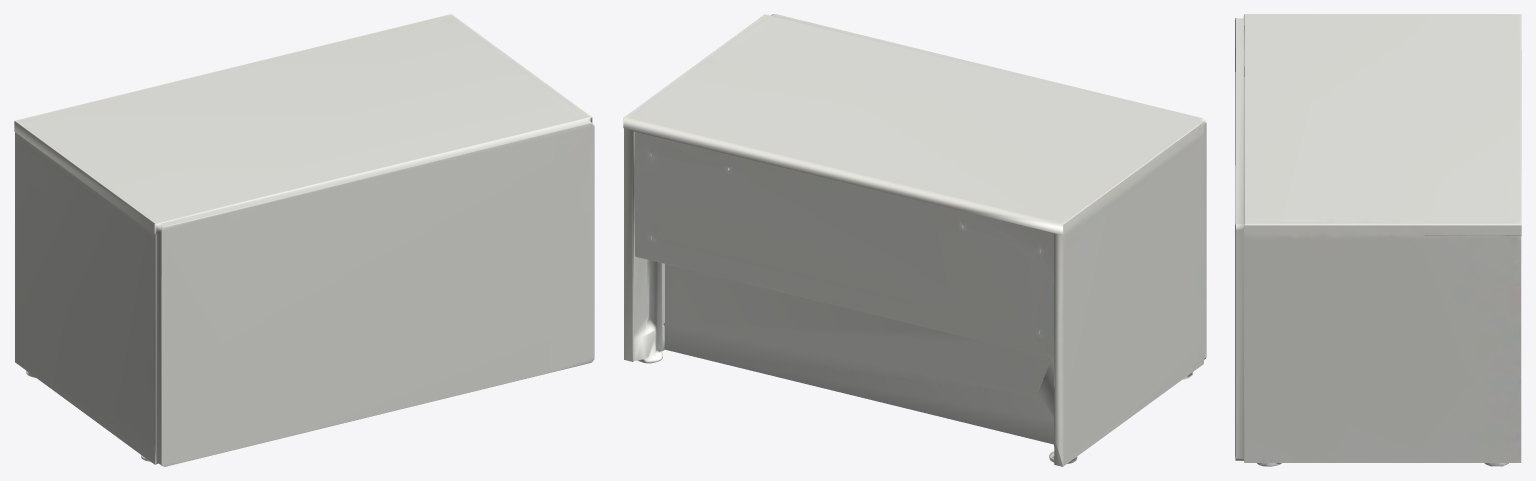
3 views of the same model, side by side, from view 1: azimuth 30°, elevation 25°; view 2: azimuth 150°, elevation 25°; view 3: azimuth 270°, elevation 25° (orthographic).
Visible parts, largest first — view 1: ProcessedMeshNode; view 2: ProcessedMeshNode; view 3: ProcessedMeshNode.
Boxes of the visible parts, x1,y1,x2,y2 form: ProcessedMeshNode: (14,14,594,466); ProcessedMeshNode: (623,14,1206,466); ProcessedMeshNode: (1235,14,1521,466).
Bounding box in the file's own units: 0.9015 × 0.4842 × 0.5179.
Materials: 1 (1 with a texture image).
